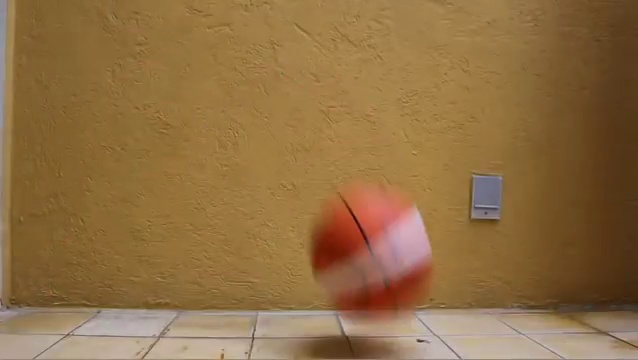ball: (310, 182, 434, 324)
